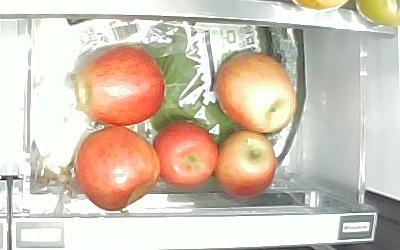apple: (71, 43, 166, 127), (73, 127, 159, 211), (215, 50, 296, 132), (215, 130, 278, 201), (154, 121, 218, 190)
